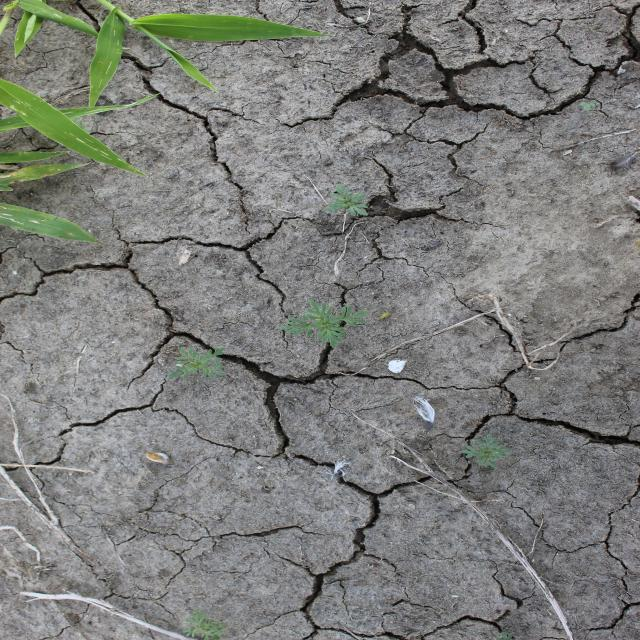Ragweed: (276, 298, 372, 349), (166, 346, 230, 381), (458, 432, 514, 468), (322, 182, 372, 218)
